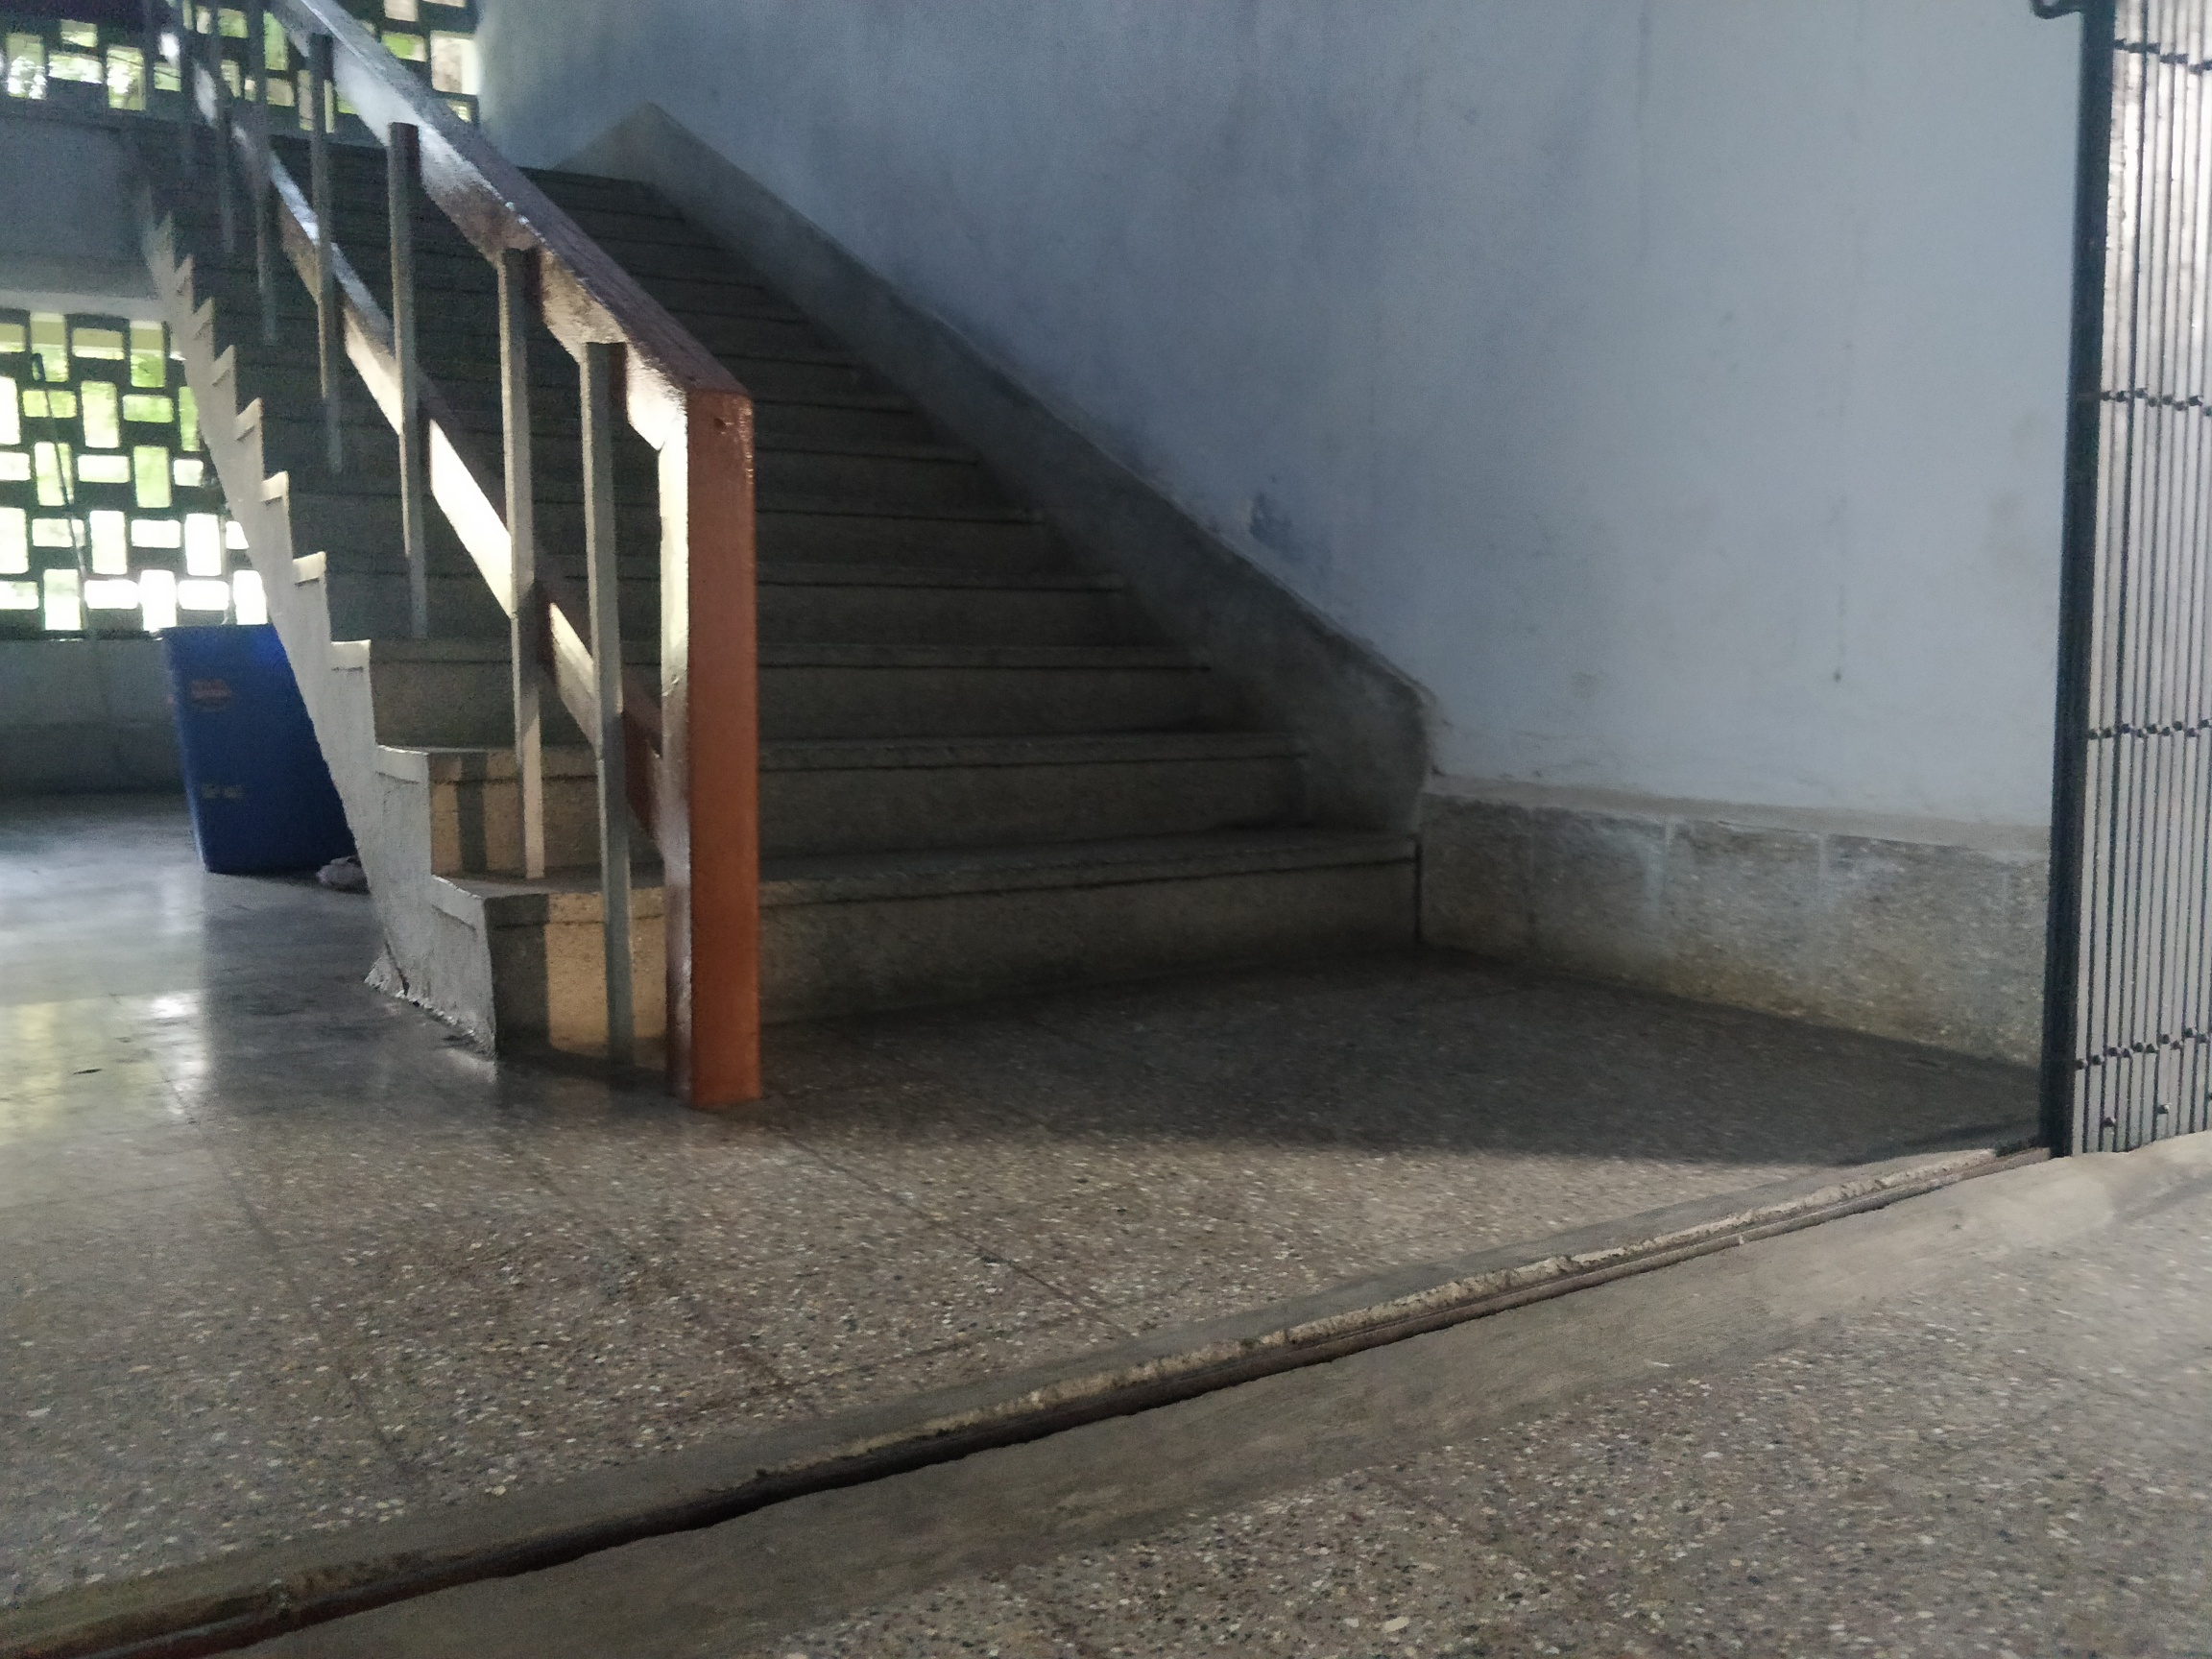stairs_up: (218, 112, 1364, 1012)
